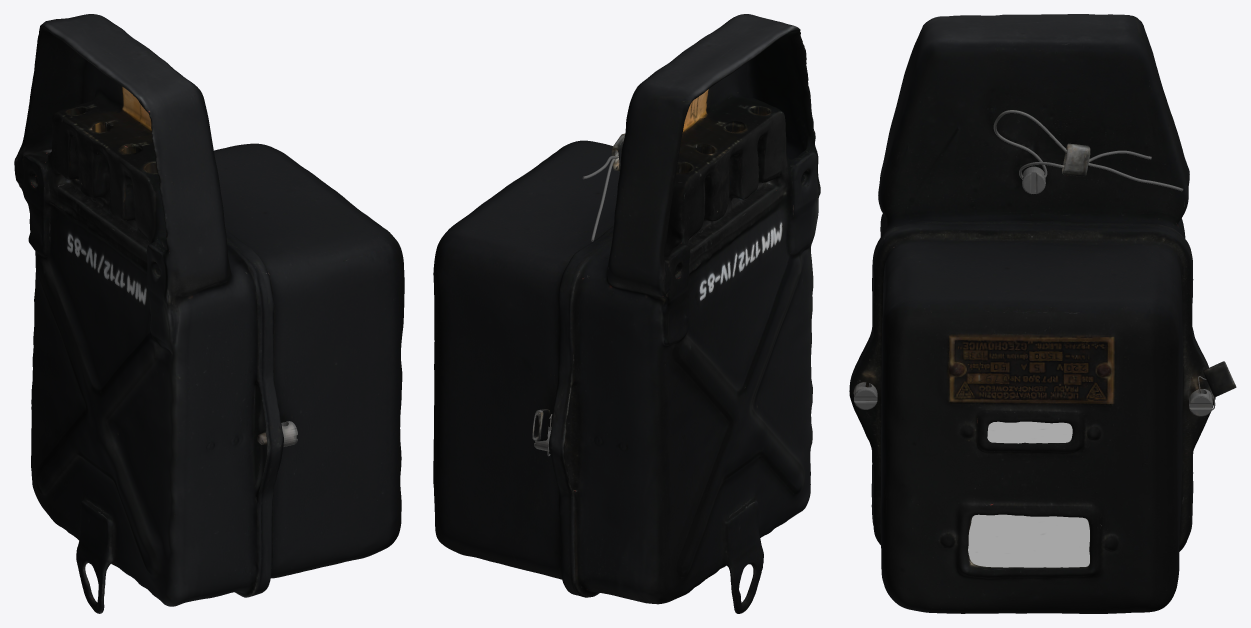
3 renders of one model, left to right at view 1: azimuth 30°, elevation 25°; view 2: azimuth 150°, elevation 25°; view 3: azimuth 270°, elevation 25°, orthographic. The views are drawn at different scales.
Parts seen in each view (by area): view 1: EXPORT_Baked; view 2: EXPORT_Baked; view 3: EXPORT_Baked.
Part boxes in pixels (x1,y1,x2,y2): EXPORT_Baked: (14,14,404,613); EXPORT_Baked: (433,14,820,613); EXPORT_Baked: (849,14,1236,613).
Size of the model in its own units: 249 by 516 by 333.
Materials: 1 (1 with a texture image).
